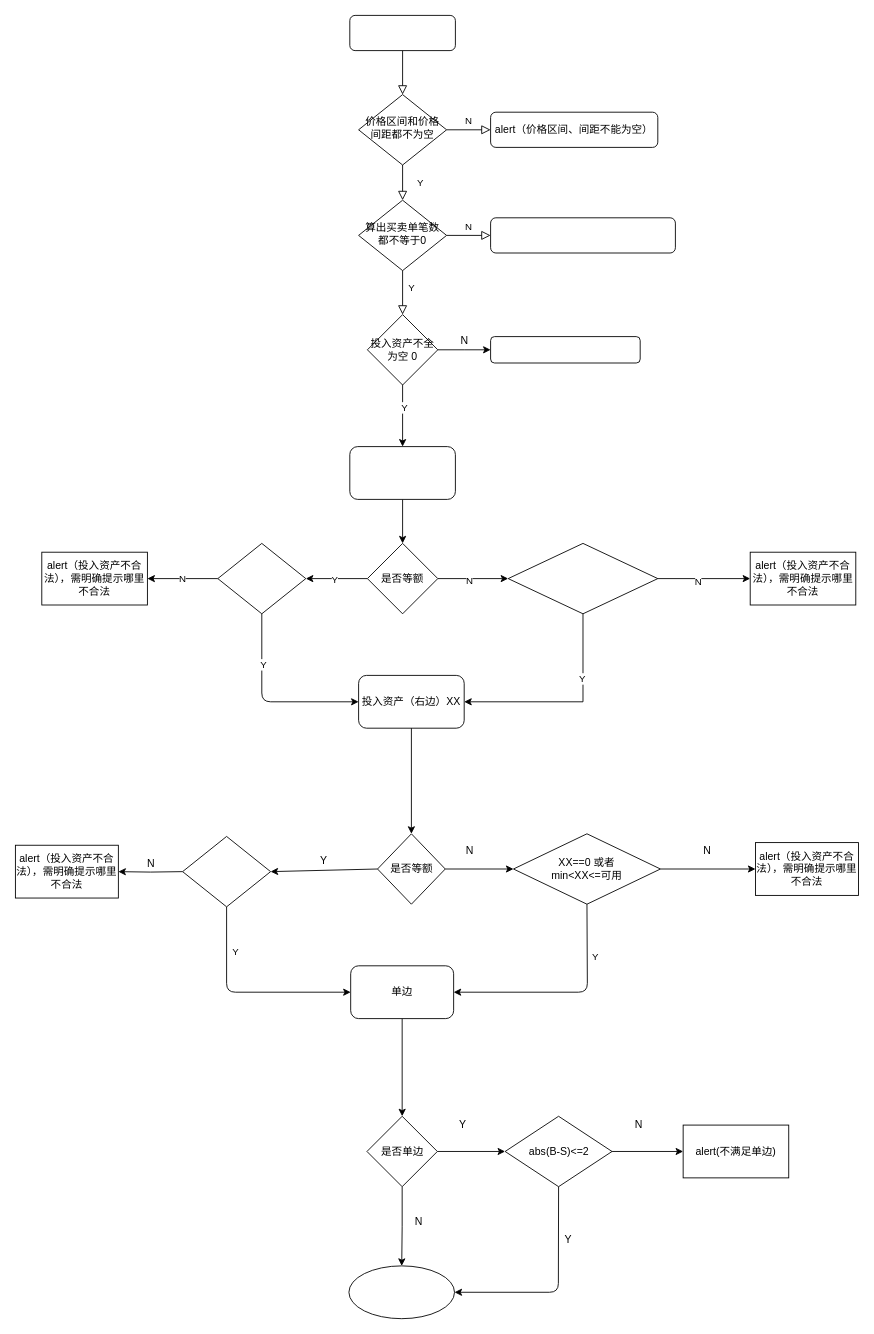
The diagram is 874 pixels wide and 1334 high, and some of its shapes have lost their labels. Here are the shapes that lost their labels. From the top down, the centre of each, then its label:
the point at 402,33: 确定下单按钮
the point at 582,235: alert（价格区间或间距设置不合理）
the point at 565,349: alert(投入资产不能为0)
the point at 402,472: 投入资产（左边）X
the point at 261,578: min<X<=可用
the point at 582,578: X==0 或者 min<X<=可用
the point at 226,871: min<XX<=可用
the point at 401,1292: 下单
